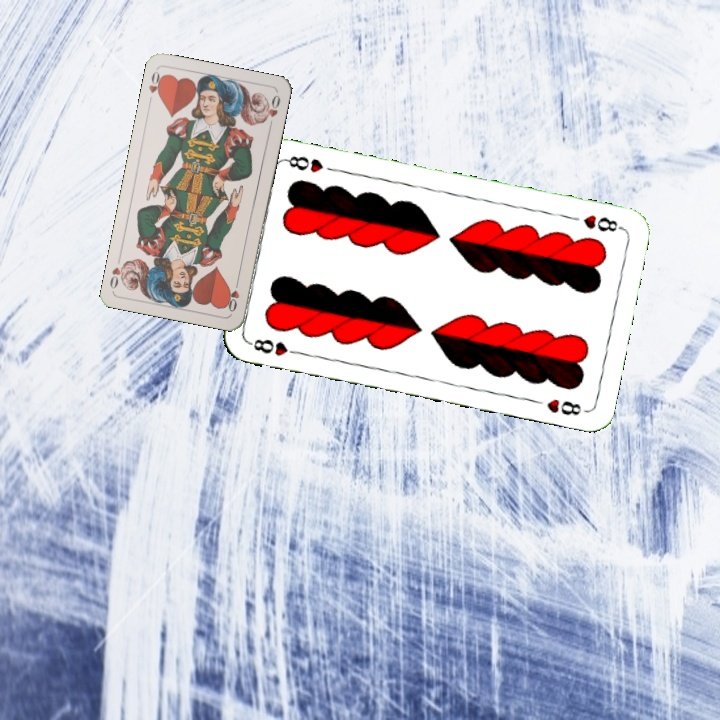H8: (245, 335, 304, 358), (579, 211, 625, 235)
HO: (145, 66, 167, 100), (224, 275, 242, 314)
